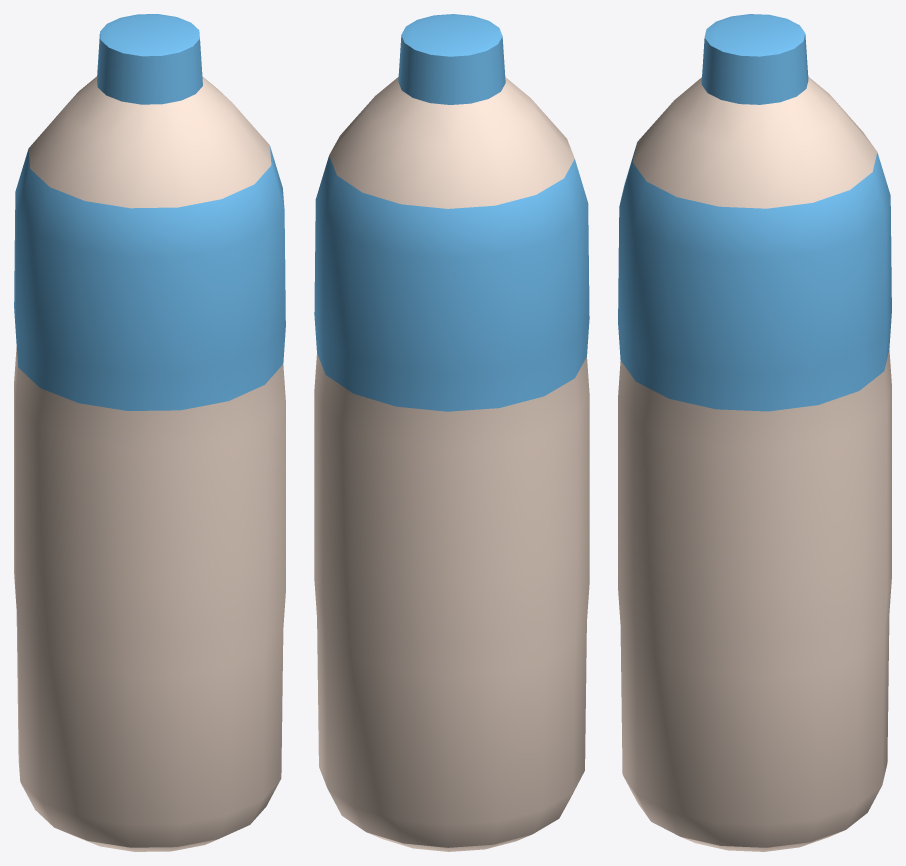
Rendered from Props_Bottle.fbx.
3 renders of one model, left to right at view 1: azimuth 30°, elevation 25°; view 2: azimuth 150°, elevation 25°; view 3: azimuth 270°, elevation 25°, orthographic.
Parts seen in each view (by area): view 1: Props_Bottle; view 2: Props_Bottle; view 3: Props_Bottle.
Part boxes in pixels (left/top/right/bottom): Props_Bottle: left=14, top=14, right=285, bottom=851; Props_Bottle: left=314, top=14, right=589, bottom=851; Props_Bottle: left=618, top=14, right=891, bottom=851.
Size of the model in its own units: 26.44 by 83.26 by 26.44.
